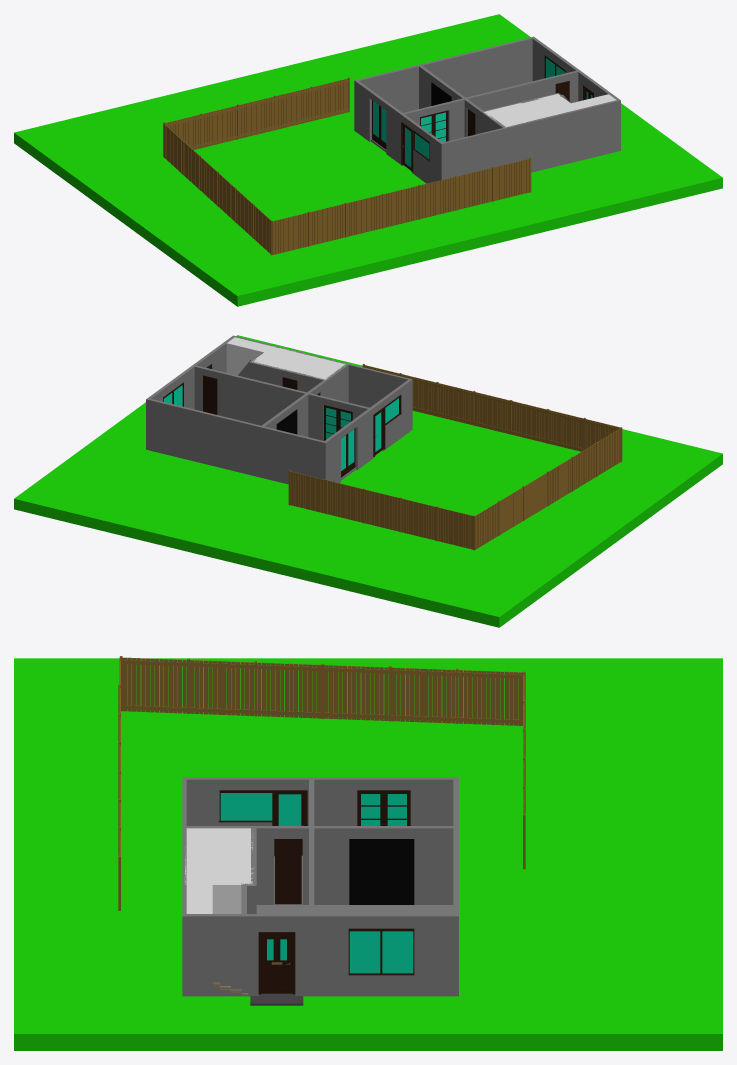
File: House Blockout.FBX
The picture shows the model from 3 angles, top to bottom: view 1: azimuth 30°, elevation 25°; view 2: azimuth 150°, elevation 25°; view 3: azimuth 270°, elevation 25°; orthographic projection. The views are drawn at different scales.
Parts seen in each view (by area): view 1: Box007, Box004, Box008, 3dSolid003, Bathroom, Box2243, Box005, Box002, Box003, Box2244; view 2: Box007, Box008, 3dSolid003, Box004, Bathroom, 3dSolid010, Box2245, Box003, Box002, Box2243, Box005, Box2244 (+1 smaller); view 3: Box007, Box2243, Box2244, Box002, Box004, Bathroom, Black Void, Glazing001, Box003, Box005, Box2238, Door (+8 smaller).
Boxes of the visible parts, bbox=[...] form: Box007: bbox=[14, 14, 722, 306]; Box004: bbox=[386, 99, 620, 183]; Box008: bbox=[354, 36, 535, 131]; 3dSolid003: bbox=[403, 70, 580, 140]; Bathroom: bbox=[484, 94, 578, 127]; Box2243: bbox=[532, 38, 578, 81]; Box005: bbox=[356, 81, 372, 141]; Box002: bbox=[419, 65, 465, 108]; Box003: bbox=[464, 99, 505, 136]; Box2244: bbox=[578, 71, 619, 101]; Box007: bbox=[14, 335, 722, 627]; Box008: bbox=[146, 398, 327, 484]; 3dSolid003: bbox=[192, 364, 369, 440]; Box004: bbox=[232, 335, 412, 469]; Bathroom: bbox=[252, 346, 345, 379]; 3dSolid010: bbox=[238, 358, 324, 392]; Box2245: bbox=[226, 337, 271, 375]; Box003: bbox=[307, 364, 348, 402]; Box002: bbox=[262, 393, 308, 436]; Box2243: bbox=[148, 366, 194, 409]; Box005: bbox=[324, 431, 340, 482]; Box2244: bbox=[194, 336, 234, 372]; Box007: bbox=[14, 658, 722, 1050]; Box2243: bbox=[314, 914, 453, 996]; Box2244: bbox=[186, 914, 308, 996]; Box002: bbox=[314, 826, 453, 904]; Box004: bbox=[182, 777, 357, 996]; Bathroom: bbox=[184, 828, 253, 913]; Black Void: bbox=[349, 839, 414, 904]; Glazing001: bbox=[349, 931, 413, 973]; Box003: bbox=[186, 826, 308, 904]; Box005: bbox=[410, 777, 453, 825]; Box2238: bbox=[261, 936, 292, 993]; Door: bbox=[275, 839, 301, 904].
Bounding box in the file's own units: 953 × 114 × 760.
